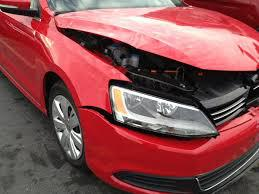bonnet-dent: (75, 9, 258, 81)
